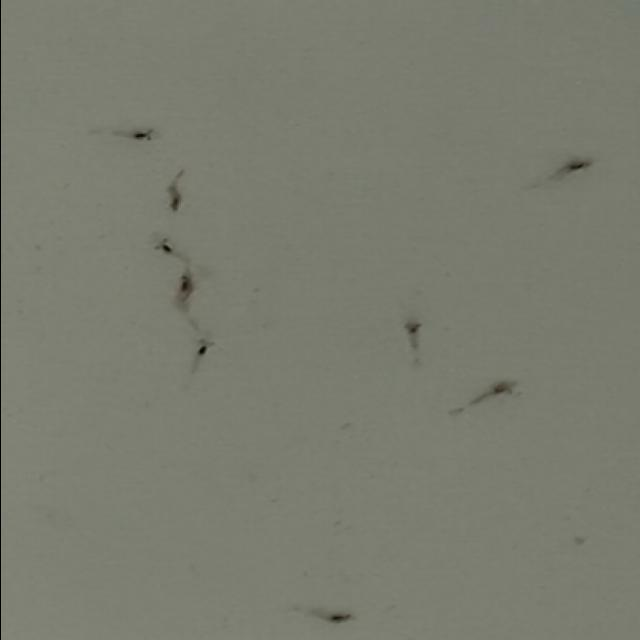shrimp-seed: (560, 153, 594, 180), (488, 378, 520, 403), (173, 270, 200, 298), (160, 191, 188, 214), (400, 320, 426, 344), (190, 336, 220, 356), (326, 608, 356, 628), (150, 236, 176, 256), (128, 125, 152, 145)
